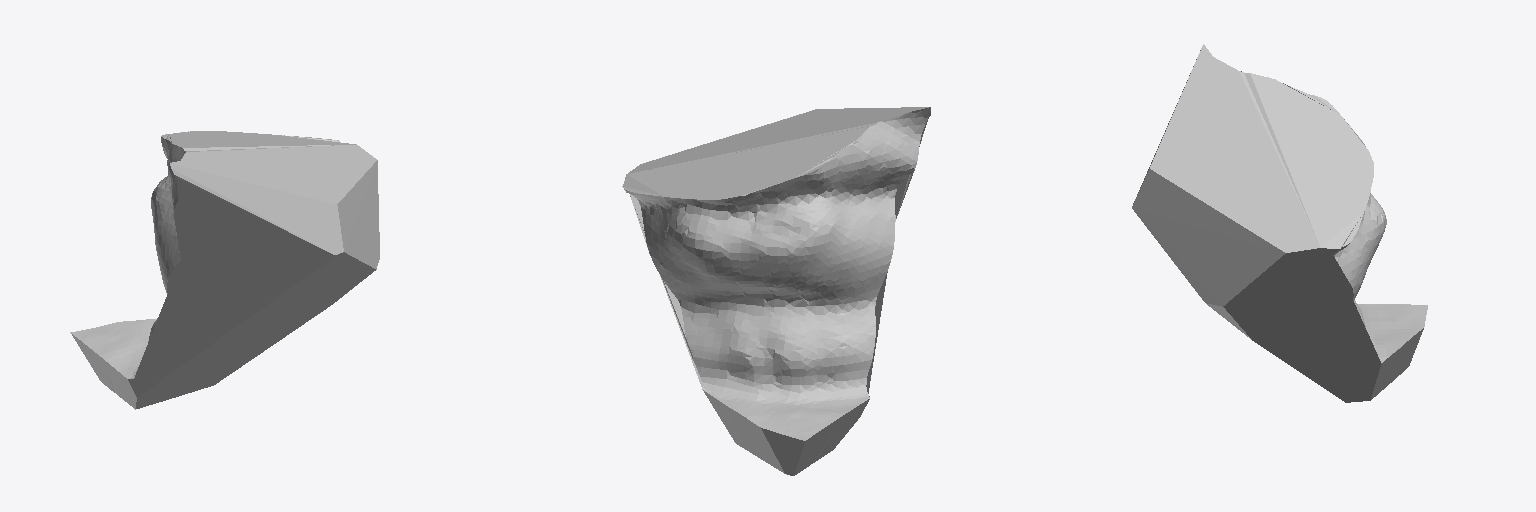
File: low_cell_014.obj
The picture shows the model from 3 angles: view 1: azimuth 30°, elevation 25°; view 2: azimuth 150°, elevation 25°; view 3: azimuth 270°, elevation 25°; orthographic projection.
Parts seen in each view (by area): view 1: low_cell.014_low_cell.013; view 2: low_cell.014_low_cell.013; view 3: low_cell.014_low_cell.013.
Boxes of the visible parts, box(x1,y1,x2,y2) form: low_cell.014_low_cell.013: box(70, 131, 379, 409); low_cell.014_low_cell.013: box(622, 107, 930, 475); low_cell.014_low_cell.013: box(1132, 44, 1427, 402).
Bounding box in the file's own units: 0.6272 × 0.7282 × 0.6467.